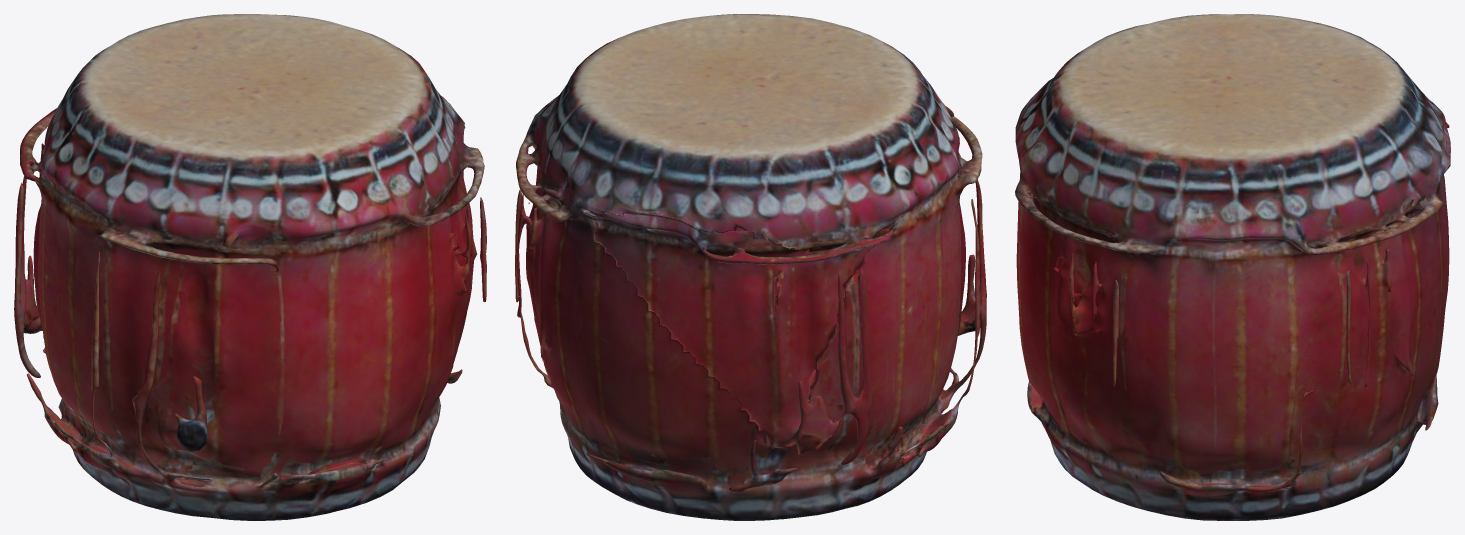
The model's file is cd35d833030f_Taiko_drum_min.fbx.
3 views of the same model, side by side, from view 1: azimuth 30°, elevation 25°; view 2: azimuth 150°, elevation 25°; view 3: azimuth 270°, elevation 25° (orthographic).
Parts seen in each view (by area): view 1: mesh; view 2: mesh; view 3: mesh.
Boxes of the visible parts, bbox=[...] form: mesh: bbox=[14, 14, 486, 520]; mesh: bbox=[515, 14, 986, 520]; mesh: bbox=[1015, 14, 1450, 520].
Size of the model in its own units: 95.69 by 89.07 by 92.22.
